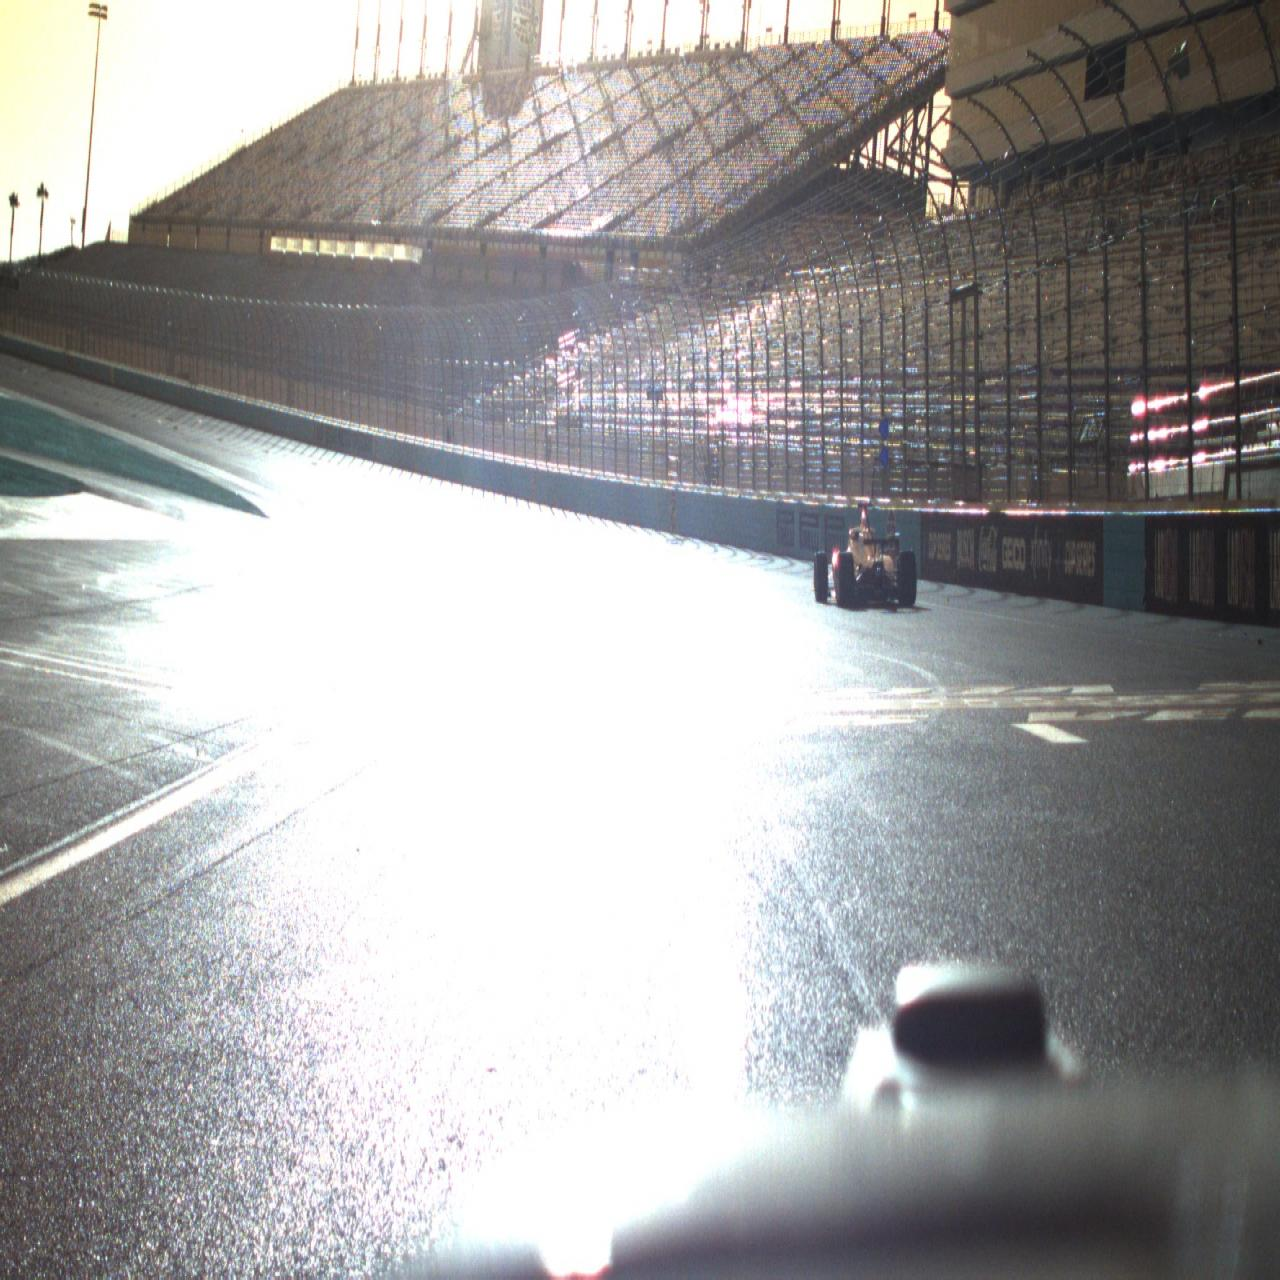AV: (811, 499, 917, 607)
Wheel: (897, 549, 917, 607), (836, 552, 853, 606), (813, 551, 829, 604)
